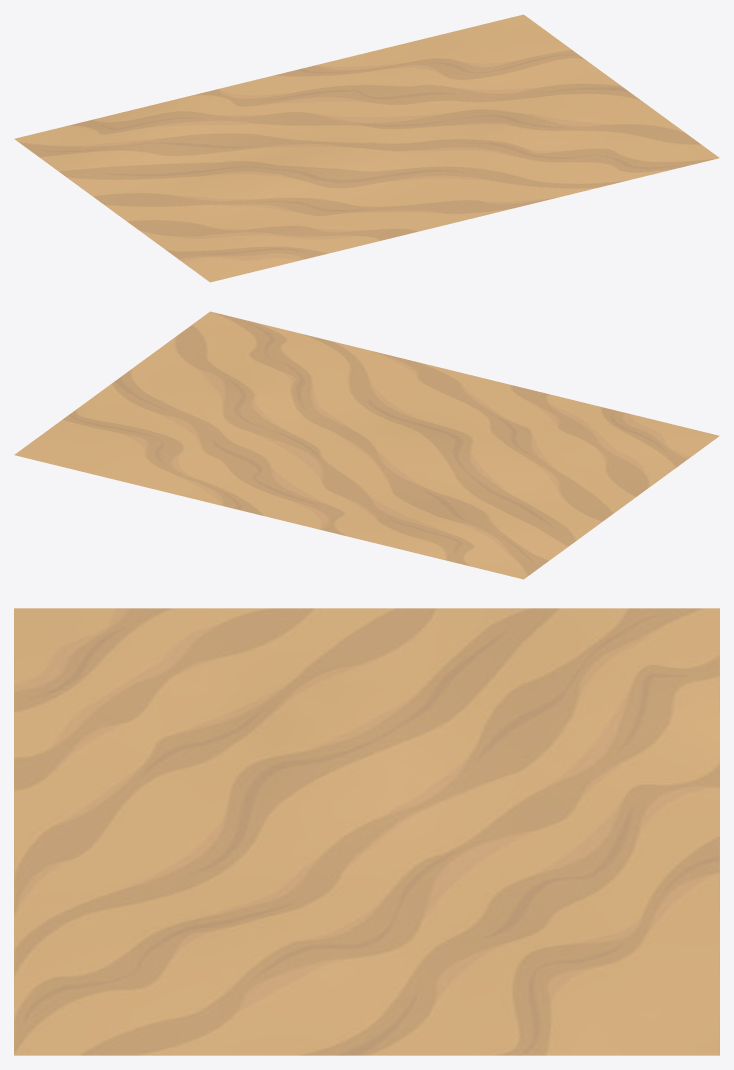
The model's file is cartoon2.glb.
3 views of the same model, one above another, from view 1: azimuth 30°, elevation 25°; view 2: azimuth 150°, elevation 25°; view 3: azimuth 270°, elevation 25° (orthographic). The views are drawn at different scales.
Visible parts, largest first — view 1: Plane; view 2: Plane; view 3: Plane.
Boxes of the visible parts, x1=… form: Plane: x1=14, y1=14, x2=719, y2=282; Plane: x1=14, y1=311, x2=719, y2=579; Plane: x1=14, y1=608, x2=719, y2=1055.
Size of the model in its own units: 60 by 0.4133 by 40.
1 material, 1 textured.
